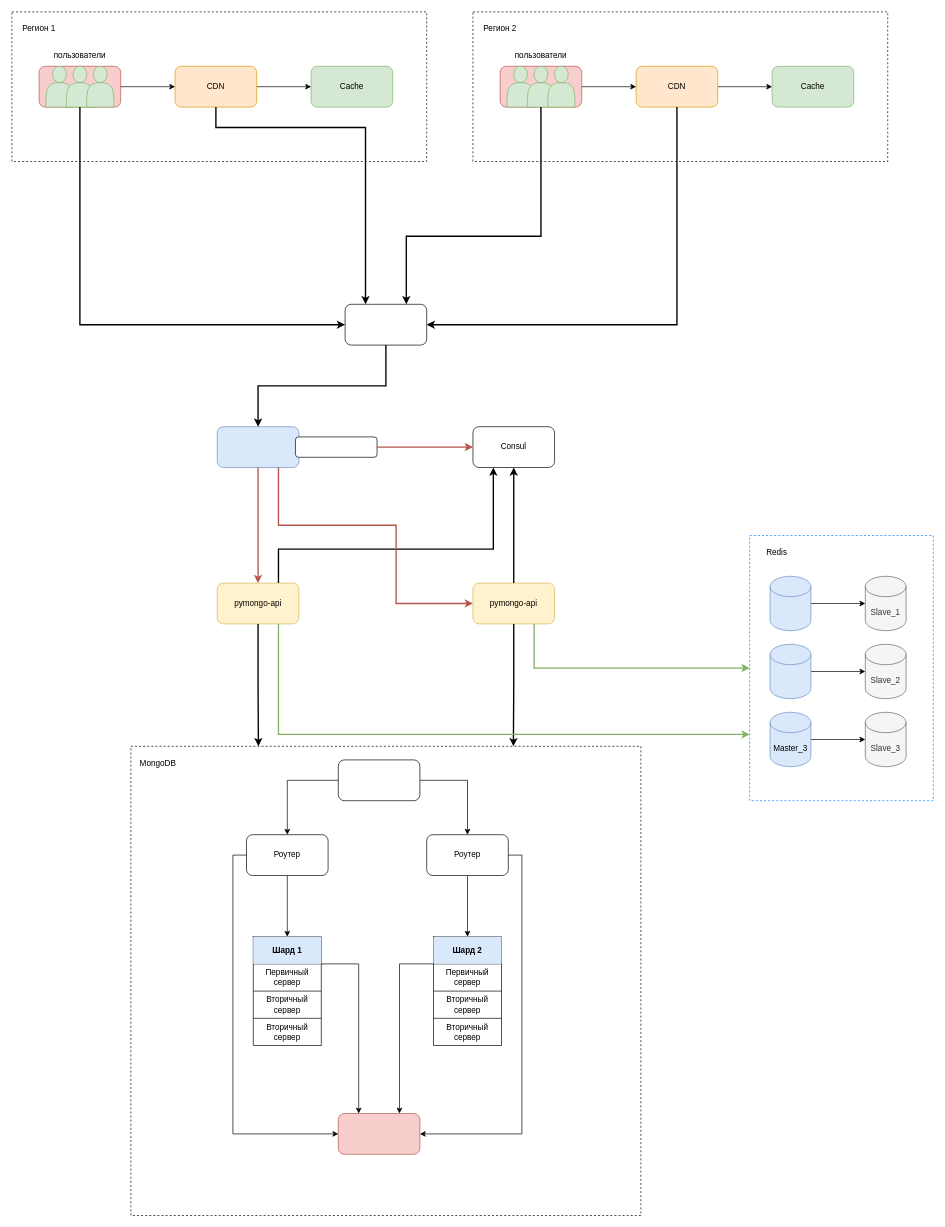
Image size: 945x1227. Some labels were removed from this diagram. The shapes that lost their labels are listed below. From the top down, each one's centre as x and y in pixels, then its label:
At [385,324]: "Nginx".
At [258,447]: "APISIX Gateway".
At [336,446]: "consul_kv".
At [790,603]: "Master_1".
At [790,671]: "Master_2".
At [379,780]: "Драйвер".
At [379,1133]: "Конфигурационный сервер".
